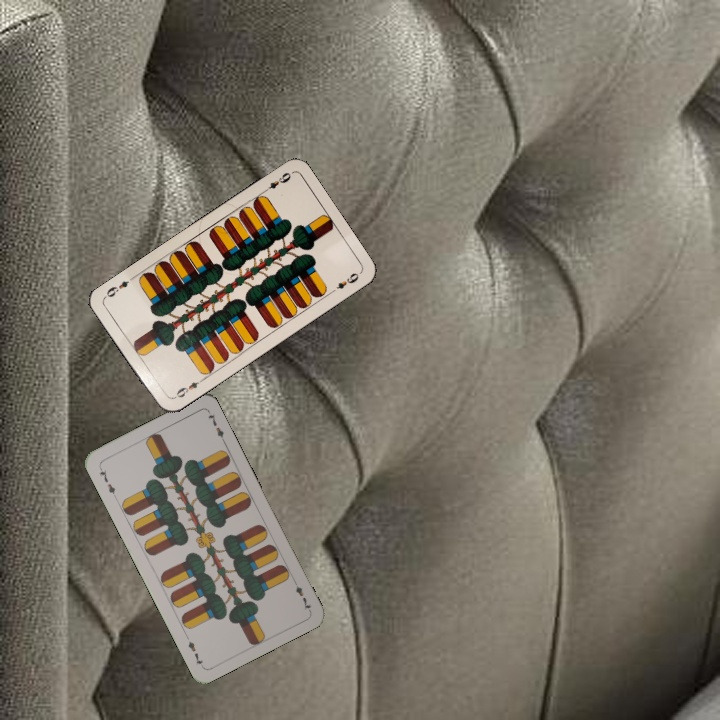E7: (95, 463, 119, 501), (289, 575, 313, 613)
E9: (258, 168, 294, 196), (169, 375, 206, 401)
